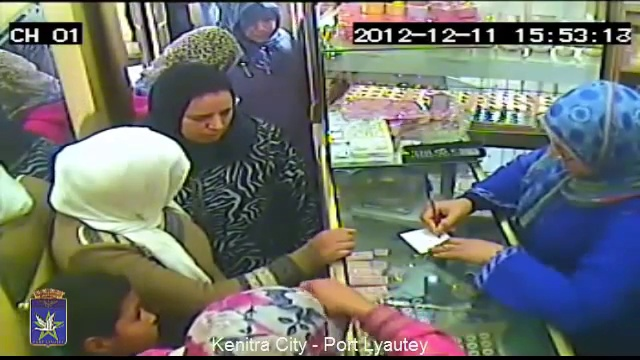face: (94, 294, 161, 351), (178, 92, 234, 143), (248, 16, 280, 42)
